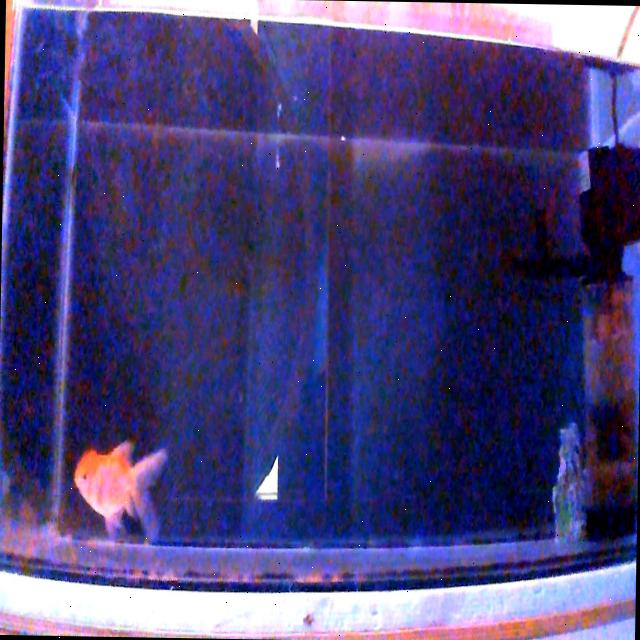fish: (73, 438, 168, 540)
